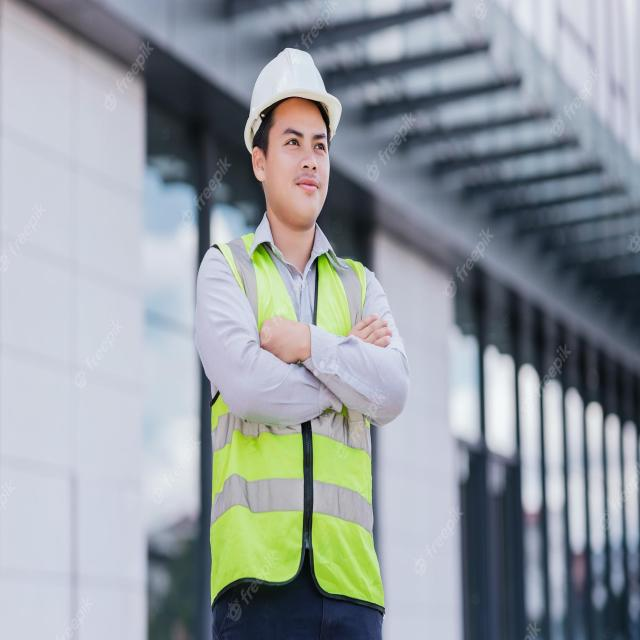helmet: (240, 48, 342, 157)
vest: (210, 228, 389, 616)
